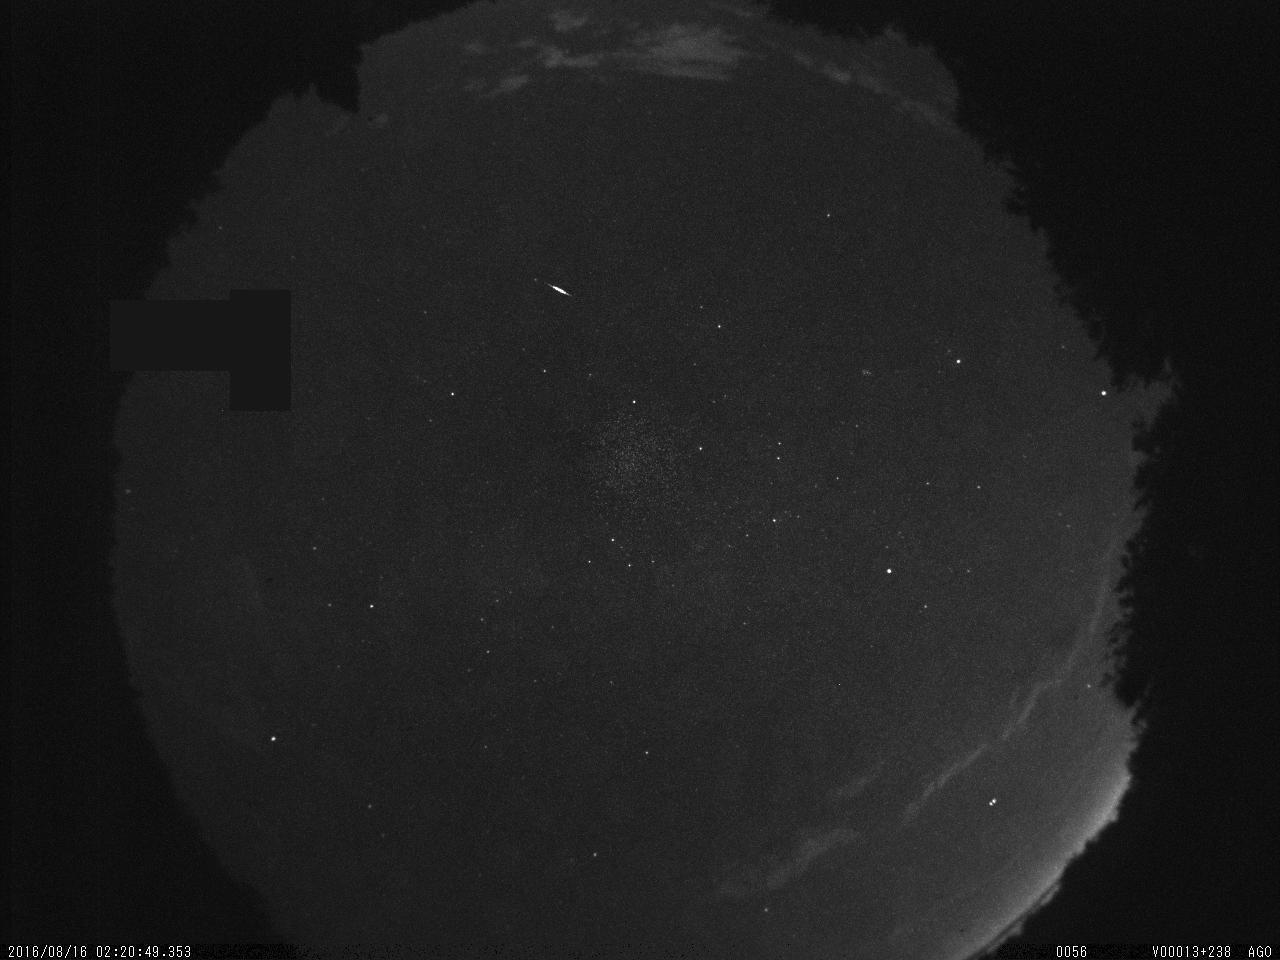meteor: (544, 275, 578, 305)
